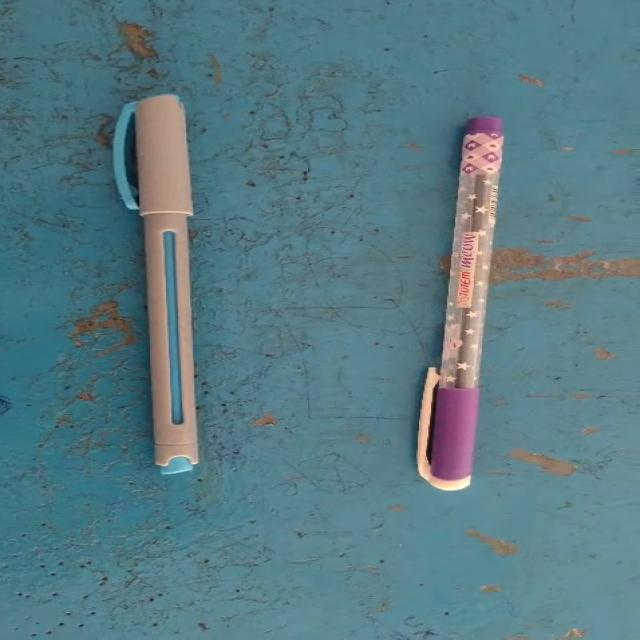pen: (61, 49, 266, 501), (338, 94, 554, 516), (44, 38, 107, 65)
